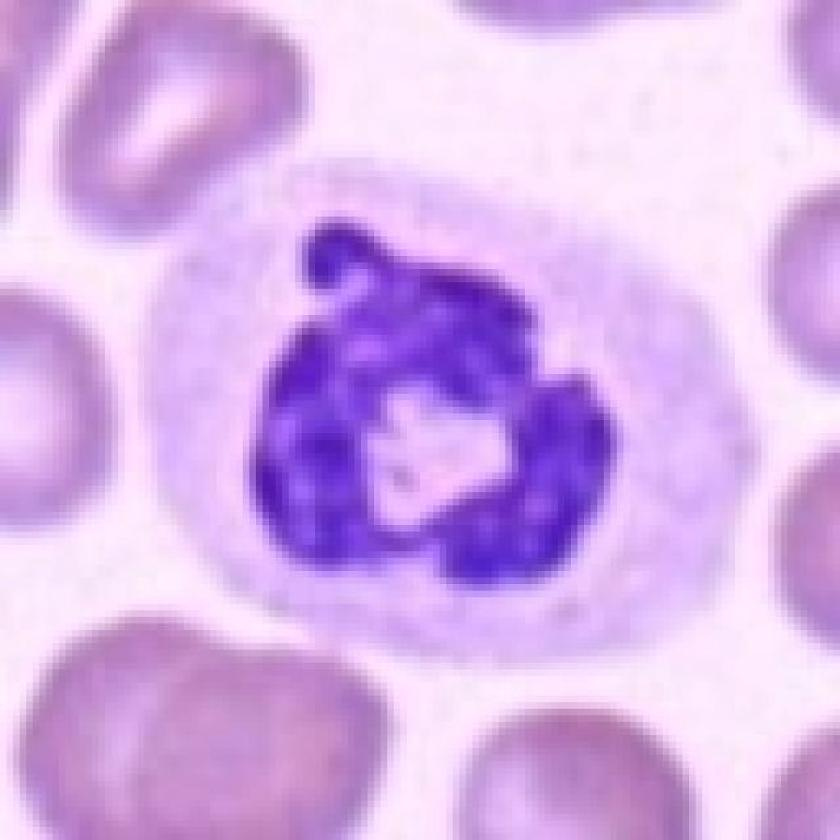neutrophil: (137, 154, 770, 672)
